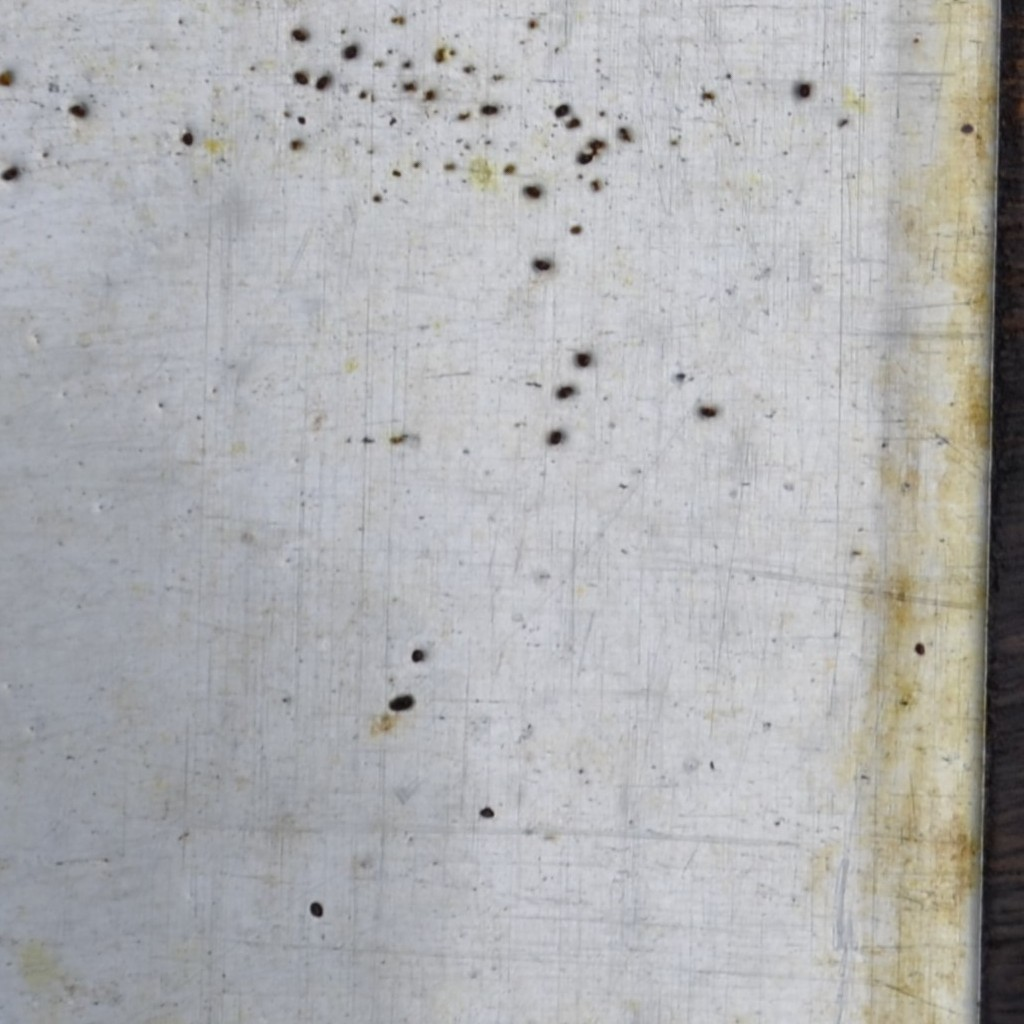varroa: (385, 686, 414, 714), (554, 382, 577, 402), (544, 426, 564, 449), (178, 125, 196, 149), (531, 255, 552, 275), (67, 99, 87, 120), (699, 402, 717, 425), (293, 65, 308, 92), (575, 150, 596, 169), (341, 39, 357, 63), (573, 349, 594, 367), (290, 25, 308, 46), (797, 79, 814, 101), (911, 638, 928, 660), (1, 164, 20, 182), (309, 899, 325, 920), (478, 802, 497, 819), (313, 71, 330, 89), (554, 101, 570, 119), (523, 184, 543, 197), (411, 645, 425, 663), (479, 102, 497, 115)
